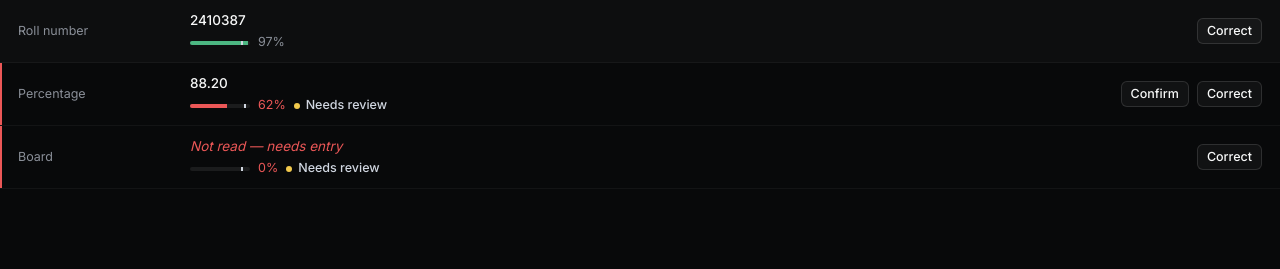
Test case: FieldList review and correction › requires a reason before a correction can be saved
The width and height of the screenshot is (1280, 269).
Later steps or results of the test are not shown.
Click the button "Correct" in the row of "62" at (1229, 94), box [1197,81,1262,107]
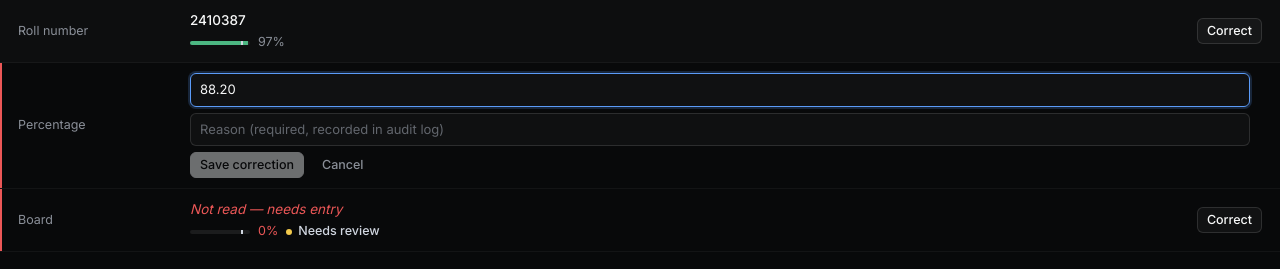
Replace the text in the field named "Corrected Percentage" with "88.40" at (720, 90), box [190,73,1250,106]
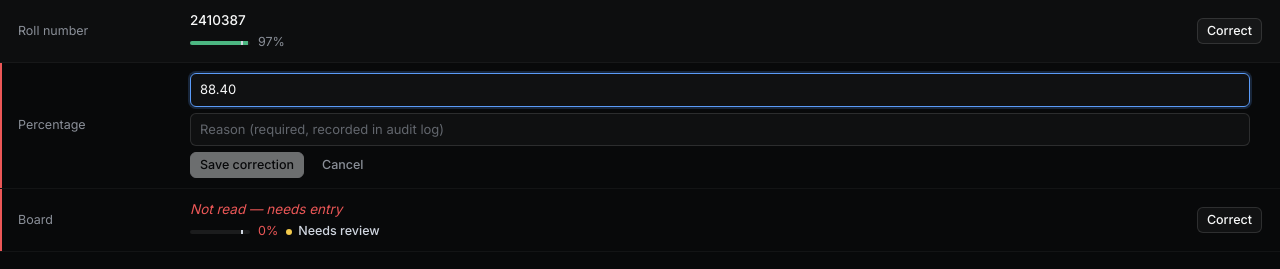
Expected: the button "Save correction" is disabled, [190,152,304,178]
